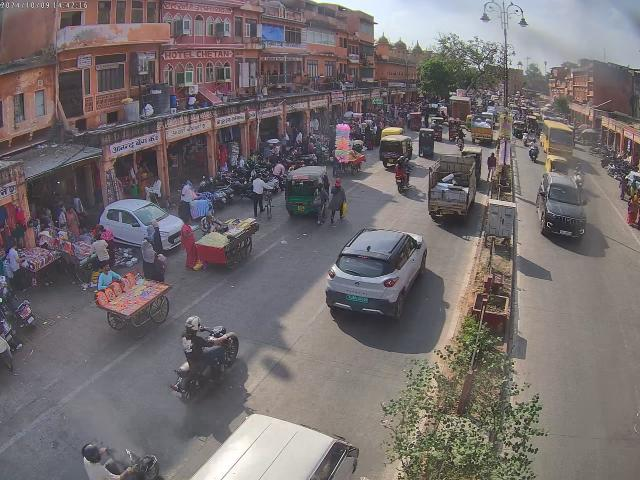auto: (284, 165, 332, 224), (379, 134, 413, 167), (418, 128, 434, 156), (448, 118, 462, 139), (512, 120, 525, 138)
bus: (540, 119, 574, 159)
car: (323, 227, 428, 325), (99, 198, 184, 252), (536, 170, 588, 244)
helmet: (82, 444, 100, 463), (184, 315, 202, 329)
license_plate: (346, 294, 368, 304), (441, 208, 455, 214), (559, 230, 572, 236), (298, 205, 304, 211)
lorry: (427, 154, 477, 220), (471, 115, 494, 144)
motorbike: (198, 183, 233, 207), (606, 158, 633, 178), (244, 160, 265, 176)
motorbike-rider: (173, 314, 241, 400), (76, 443, 169, 480), (394, 156, 412, 190)
person: (248, 174, 271, 216), (2, 243, 20, 275), (178, 180, 198, 208), (146, 177, 162, 202)
scooty: (0, 278, 35, 325)
scooty-rider: (528, 138, 538, 162)
vendor: (96, 260, 172, 338), (195, 214, 260, 266), (333, 144, 366, 176)
